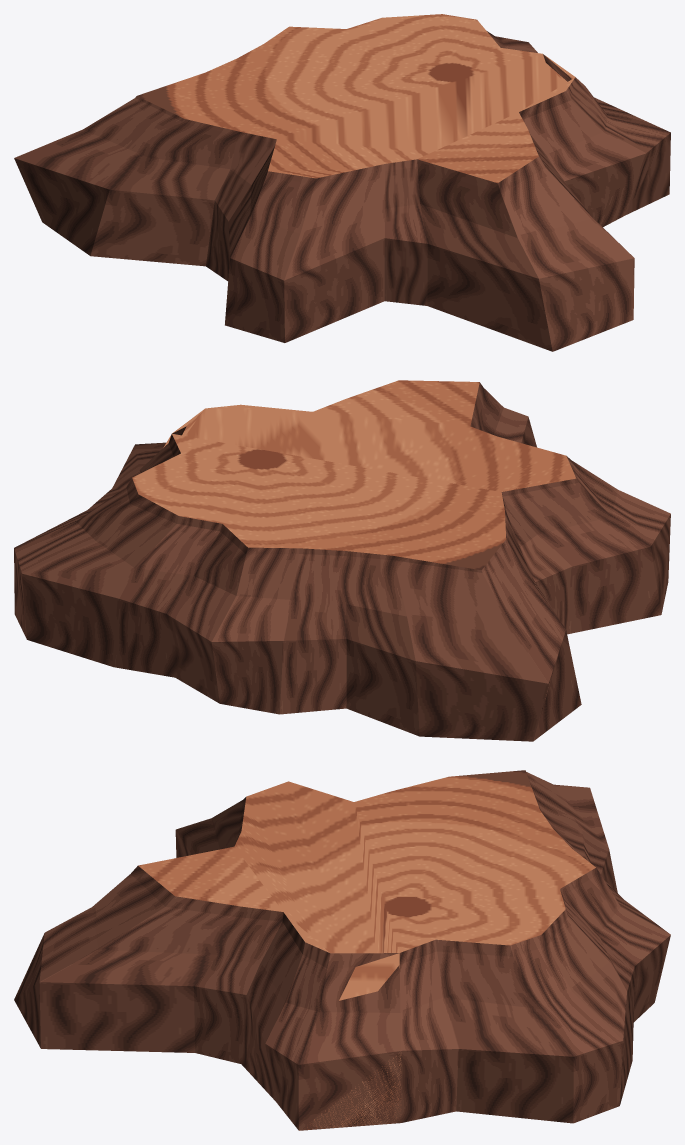
File: environment_redwood5_stump_v2.fbx
3 renders of one model, top to bottom at view 1: azimuth 30°, elevation 25°; view 2: azimuth 150°, elevation 25°; view 3: azimuth 270°, elevation 25°, orthographic. The views are drawn at different scales.
Parts seen in each view (by area): view 1: environment_redwood5_stump_v2; view 2: environment_redwood5_stump_v2; view 3: environment_redwood5_stump_v2.
Boxes of the visible parts, <box> form: environment_redwood5_stump_v2: <box>14,14,670,351</box>; environment_redwood5_stump_v2: <box>14,380,670,741</box>; environment_redwood5_stump_v2: <box>14,770,670,1130</box>.
Bounding box in the file's own units: 867 × 200 × 878.
